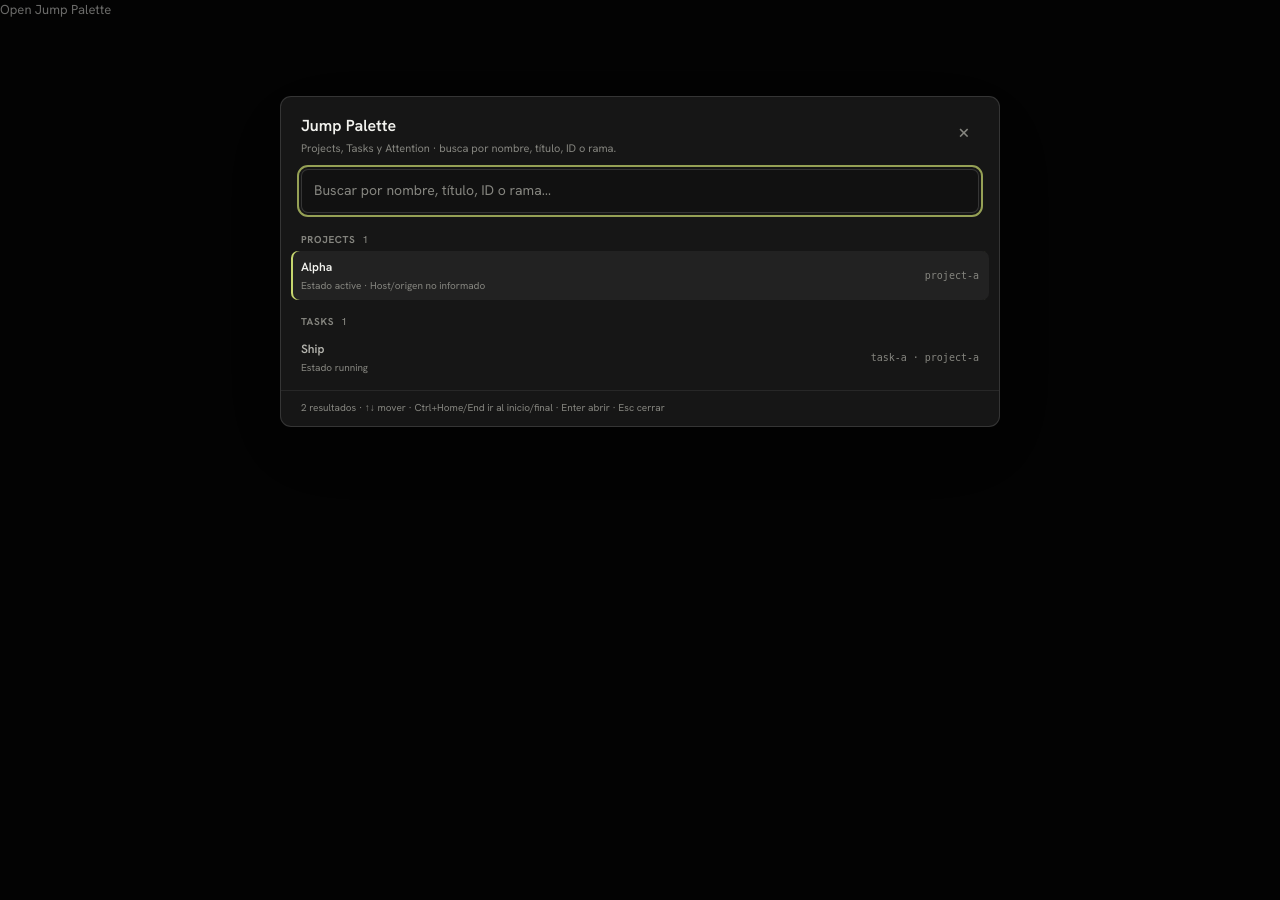
Test: JumpPalette › shows display-only facts without searching them and appends the status note
Expected: the option "Alpha Estado active · Host/origen no informado project-a" is shown, x1=291 y1=250 x2=989 y2=300
Type "running" into the dropdown named "Buscar Projects, Tasks y Attention". click: [640, 190]
box: x1=301 y1=168 x2=979 y2=212
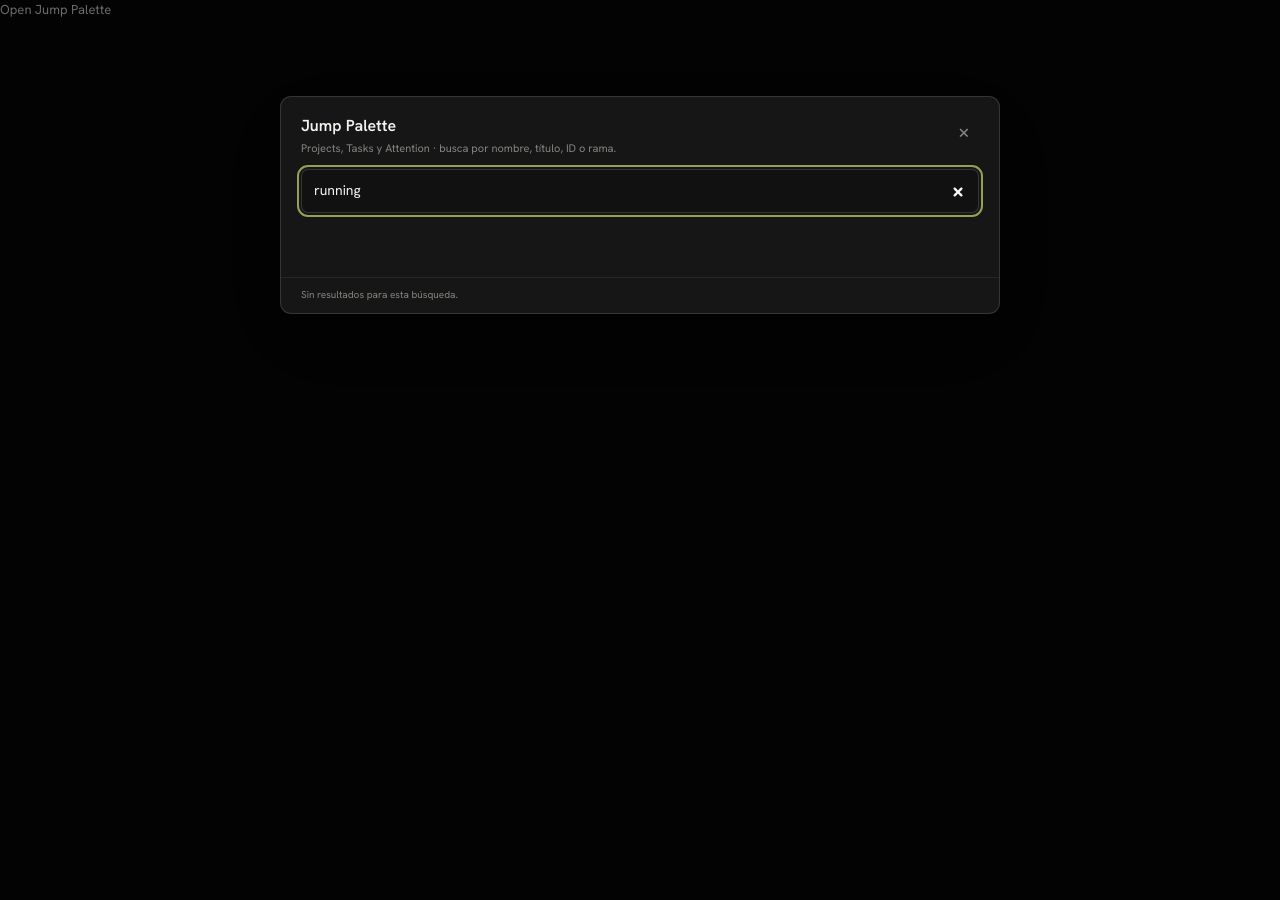
Expected: the option is gone
